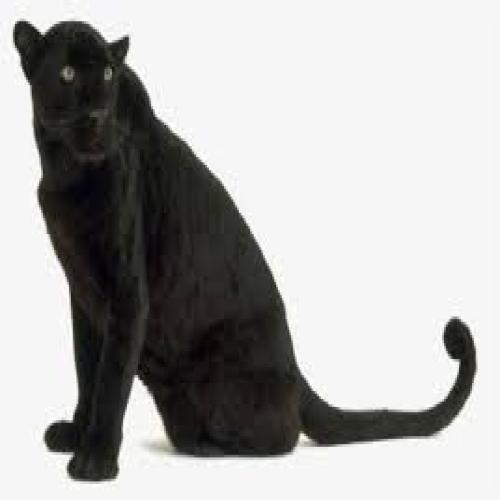panther-endangered: (12, 17, 478, 484)
